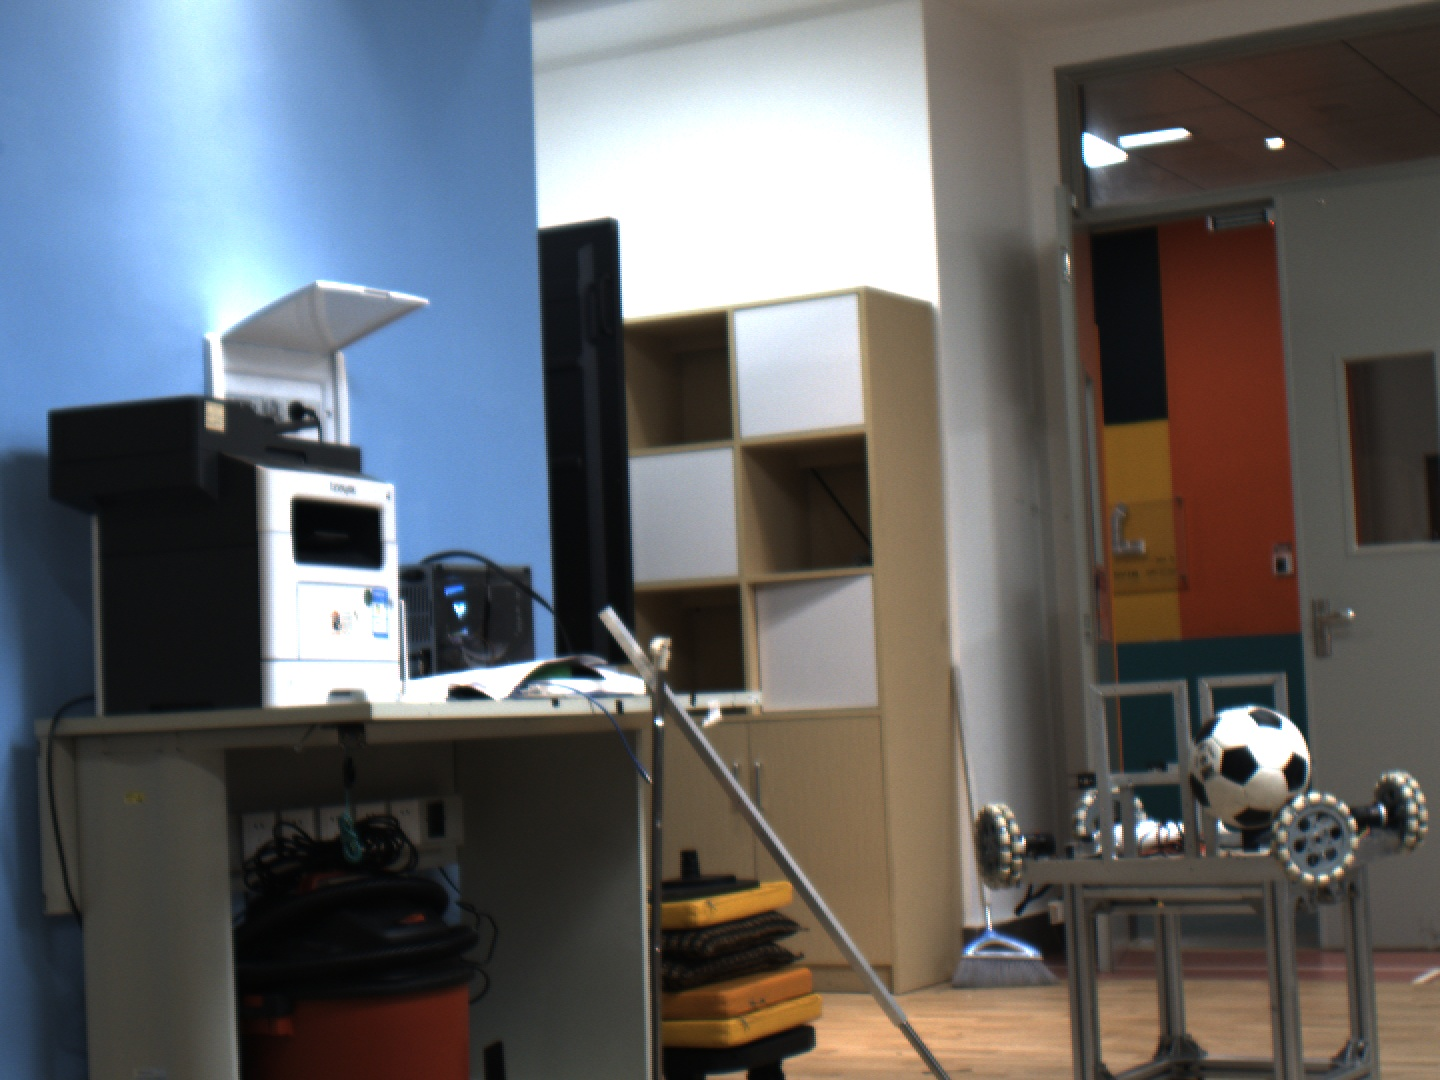ball: (1164, 689, 1331, 844)
